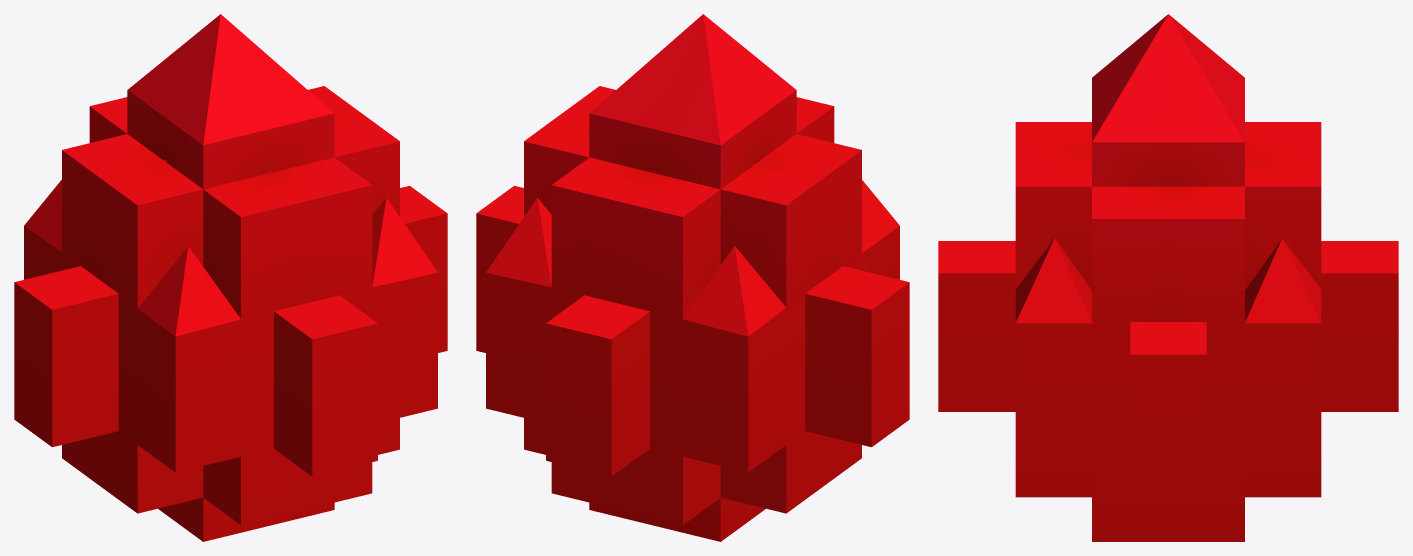
Rendered from Egg Epic.fbx.
3 views of the same model, side by side, from view 1: azimuth 30°, elevation 25°; view 2: azimuth 150°, elevation 25°; view 3: azimuth 270°, elevation 25° (orthographic).
Parts seen in each view (by area): view 1: Egg Epic; view 2: Egg Epic; view 3: Egg Epic.
Part boxes in pixels (<box>): Egg Epic: <box>14,14,447,541</box>; Egg Epic: <box>476,14,909,541</box>; Egg Epic: <box>938,14,1398,541</box>.
Size of the model in its own units: 2.02 by 2.38 by 2.02.
